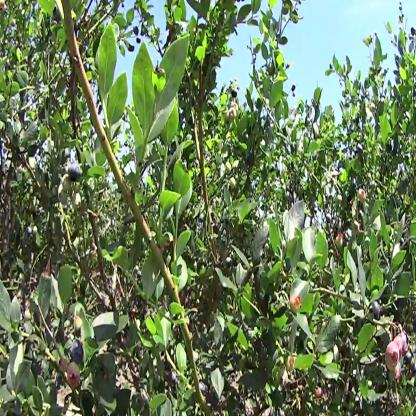intermediate: (387, 342, 403, 379), (66, 362, 82, 389), (395, 334, 411, 357), (289, 295, 305, 318)
mature: (69, 339, 86, 364), (68, 162, 83, 184), (370, 299, 384, 322)
young: (280, 352, 296, 386), (59, 176, 70, 203), (334, 234, 345, 252), (74, 192, 83, 212), (228, 177, 237, 194), (358, 187, 366, 206), (226, 159, 233, 175)
